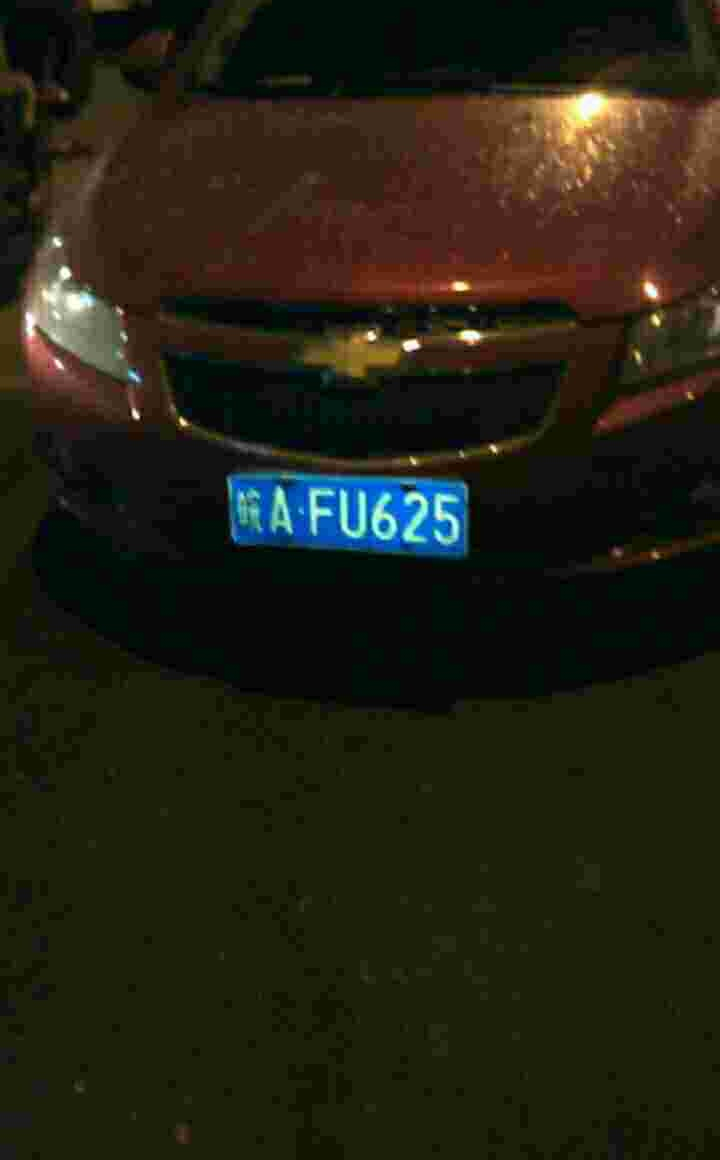plate: (231, 468, 471, 561)
